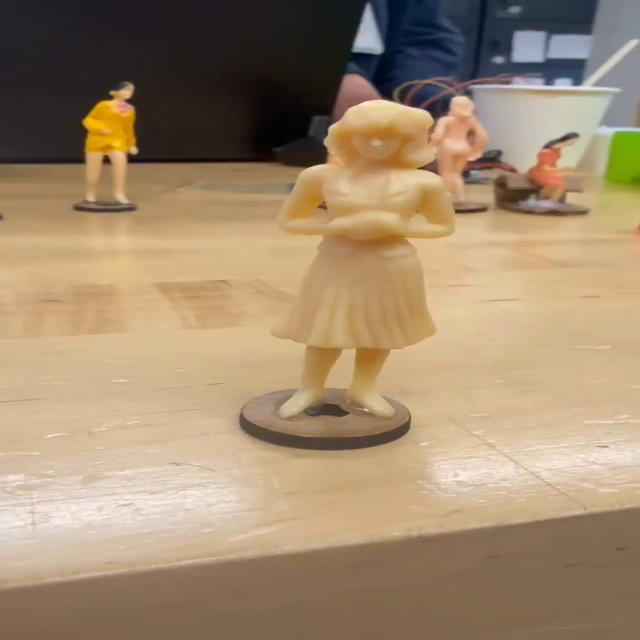Unauthorized: (275, 98, 465, 426)
